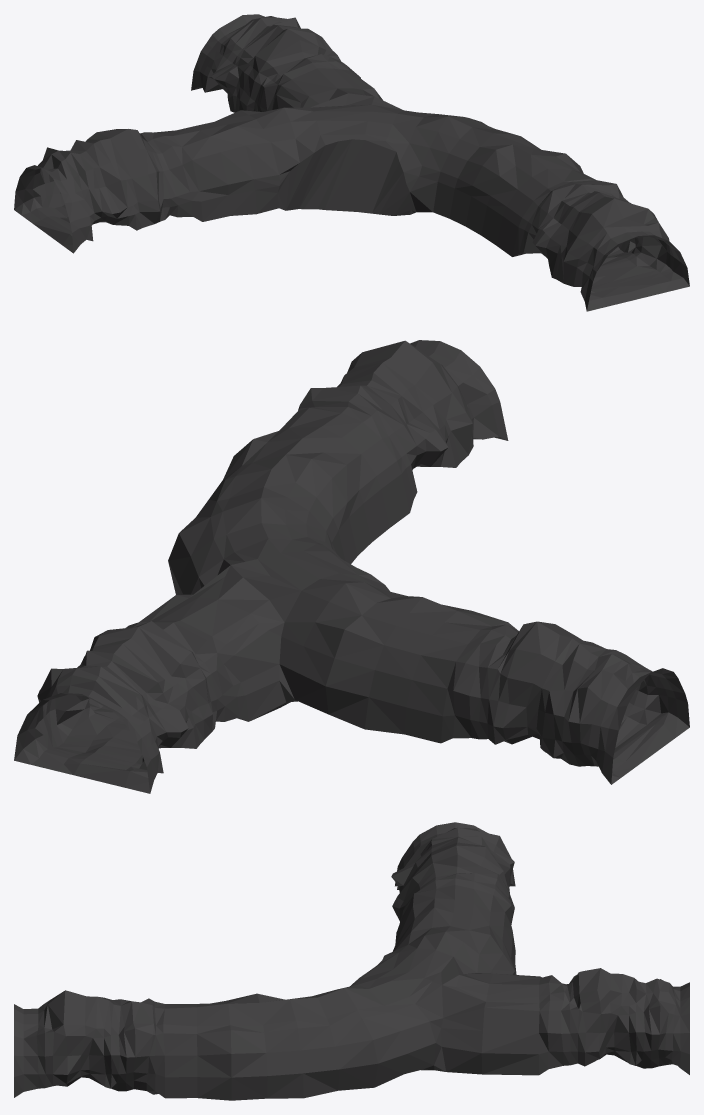
Rendered from Cave_13.fbx.
3 renders of one model, top to bottom at view 1: azimuth 30°, elevation 25°; view 2: azimuth 150°, elevation 25°; view 3: azimuth 270°, elevation 25°, orthographic. The views are drawn at different scales.
Visible parts, largest first — view 1: polySurface1427; view 2: polySurface1427; view 3: polySurface1427.
Boxes of the visible parts, x1,y1,x2,y2 form: polySurface1427: [14, 14, 689, 311]; polySurface1427: [14, 340, 689, 793]; polySurface1427: [14, 822, 689, 1100].
Size of the model in its own units: 34.42 by 7.12 by 46.21.
